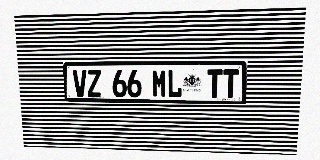6: (112, 70, 127, 97), (127, 70, 142, 97)
L: (167, 69, 182, 98)
M: (152, 69, 167, 97)
T: (222, 69, 239, 98), (207, 69, 223, 98)
V: (72, 70, 87, 97)
Z: (87, 70, 102, 97)
